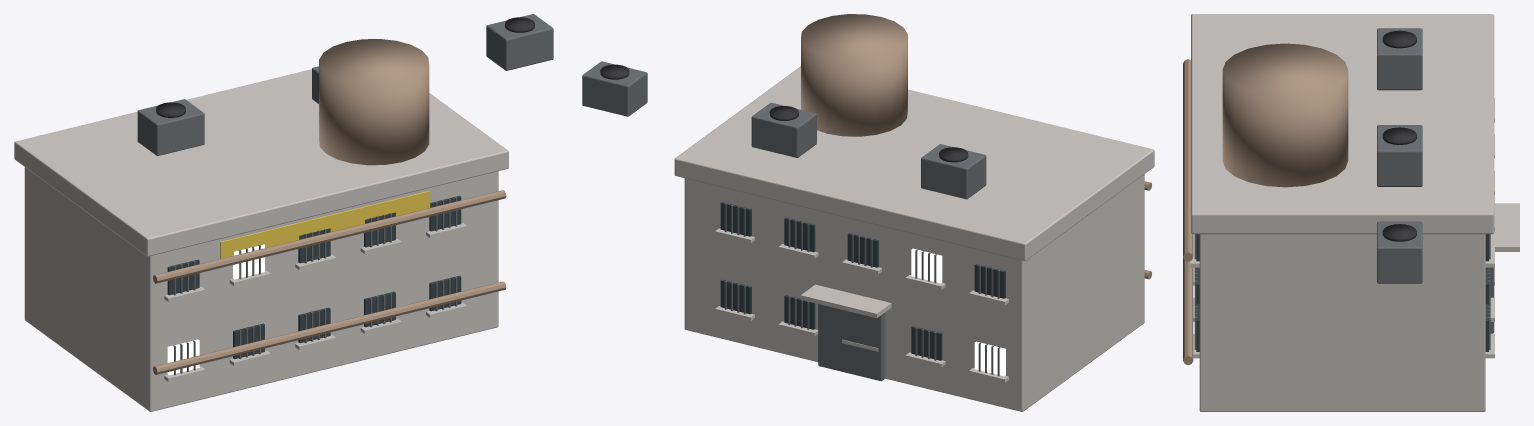
The model's file is barracks.glb.
The picture shows the model from 3 angles, left to right: view 1: azimuth 30°, elevation 25°; view 2: azimuth 150°, elevation 25°; view 3: azimuth 270°, elevation 25°; orthographic projection. The views are drawn at different scales.
Visible parts, largest first — view 1: barracks; view 2: barracks; view 3: barracks.
Part boxes in pixels (x1=…): barracks: x1=14, y1=14, x2=553, y2=411; barracks: x1=582, y1=14, x2=1154, y2=411; barracks: x1=1183, y1=14, x2=1519, y2=411.
Bounding box in the file's own units: 22.4 × 11.35 × 11.78.
